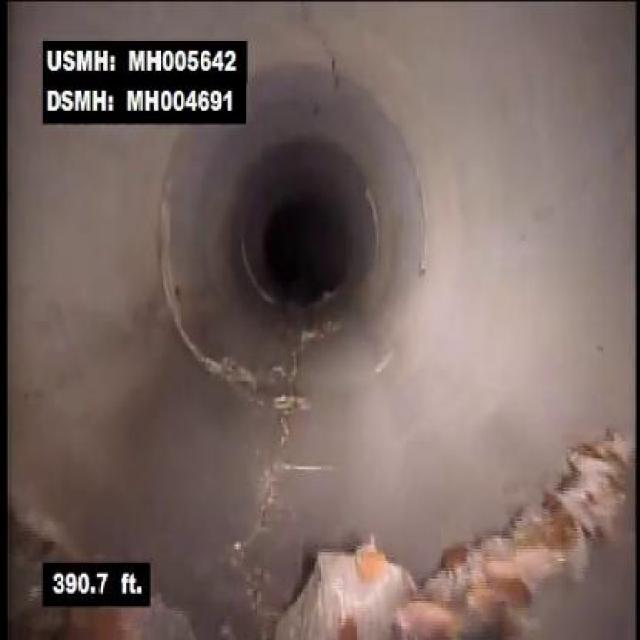Debris: (240, 517, 435, 638)
